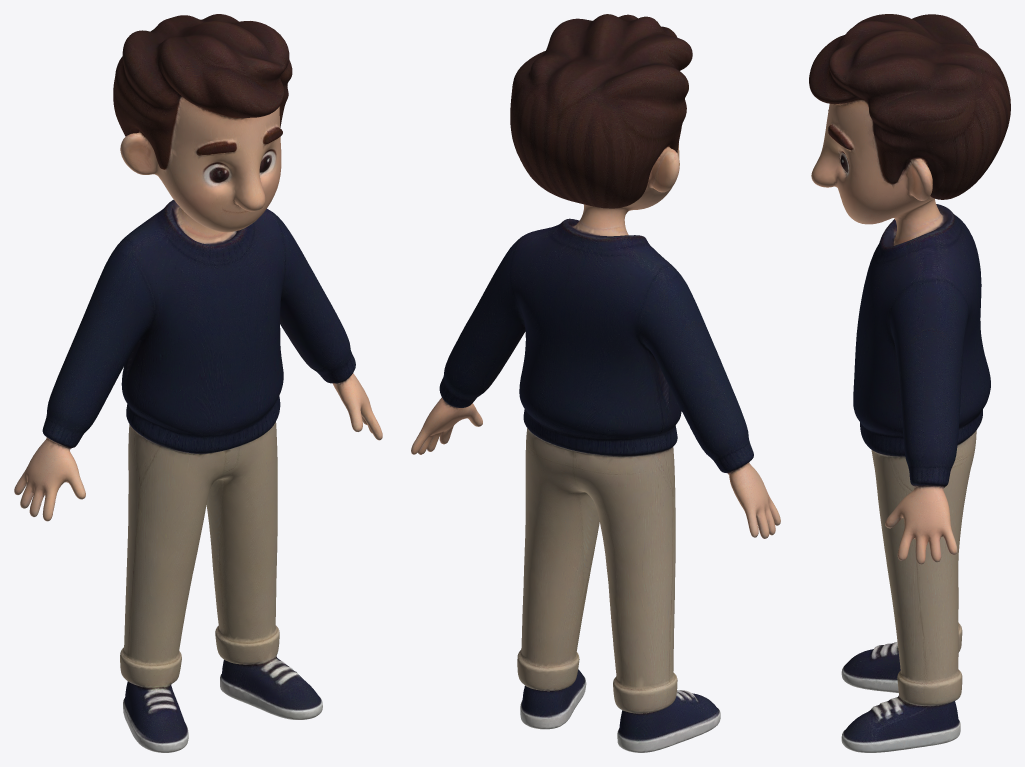
The model's file is Baba.obj.
3 renders of one model, left to right at view 1: azimuth 30°, elevation 25°; view 2: azimuth 150°, elevation 25°; view 3: azimuth 270°, elevation 25°, orthographic.
Visible parts, largest first — view 1: Baba; view 2: Baba; view 3: Baba.
Boxes of the visible parts, box(x1,y1,x2,y2) form: Baba: box(14, 14, 382, 752); Baba: box(411, 14, 780, 752); Baba: box(809, 14, 1010, 752).
Size of the model in its own units: 100 by 190 by 50.81.
1 material, 1 textured.
